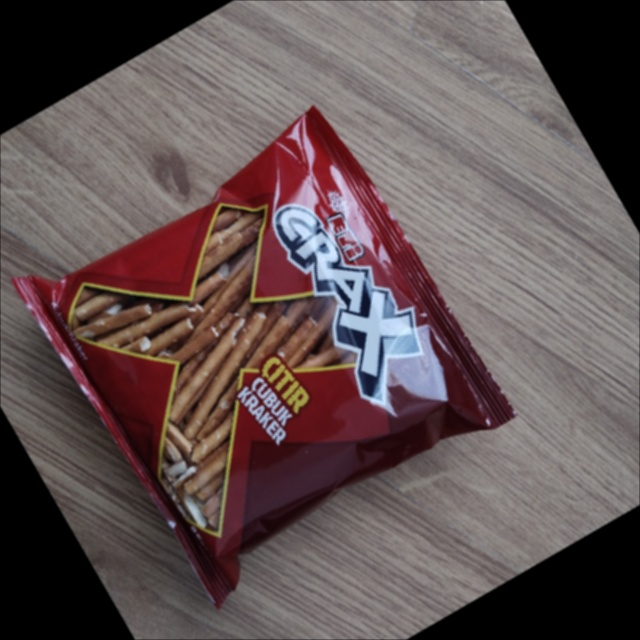eti_crax_cubuk_kraker: (14, 108, 513, 605)
